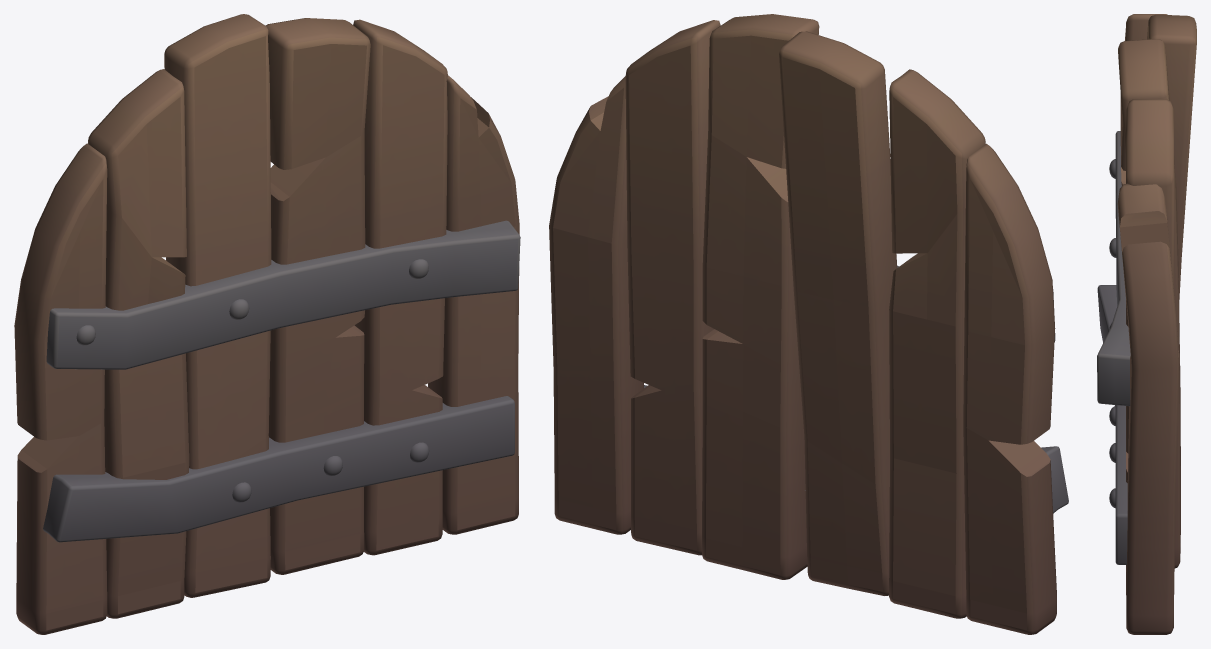
File: gateDoor_2.fbx
3 views of the same model, side by side, from view 1: azimuth 30°, elevation 25°; view 2: azimuth 150°, elevation 25°; view 3: azimuth 270°, elevation 25° (orthographic). The views are drawn at different scales.
Visible parts, largest first — view 1: gate_hurt2; view 2: gate_hurt2; view 3: gate_hurt2.
Part boxes in pixels (left/top/right/bottom): gate_hurt2: left=14, top=14, right=520, bottom=634; gate_hurt2: left=549, top=14, right=1068, bottom=634; gate_hurt2: left=1097, top=14, right=1196, bottom=634.
Bounding box in the file's own units: 175 × 187 × 34.13.
